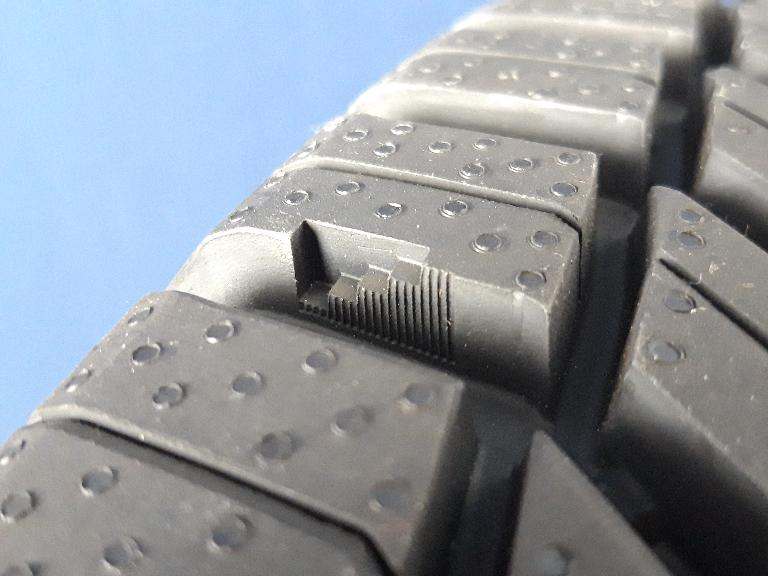temoin:100: (280, 213, 463, 372)
